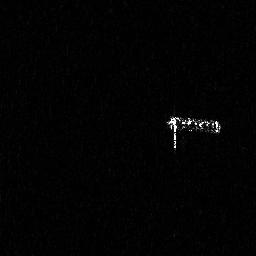ship: (166, 113, 223, 151)
